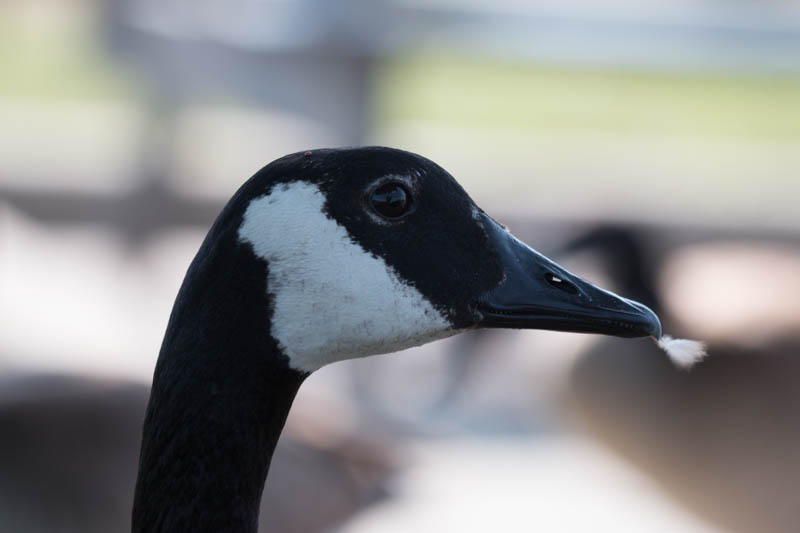goose-head: (154, 146, 660, 371)
